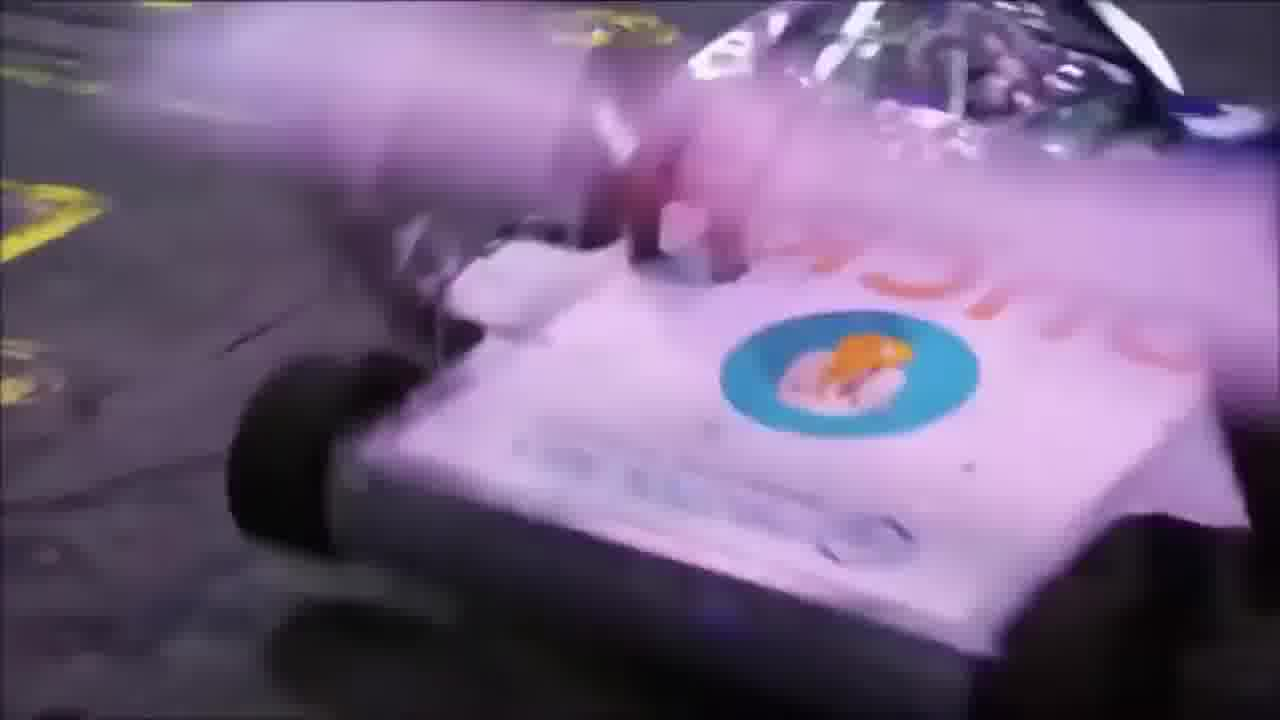combatbot: (222, 52, 1253, 720)
